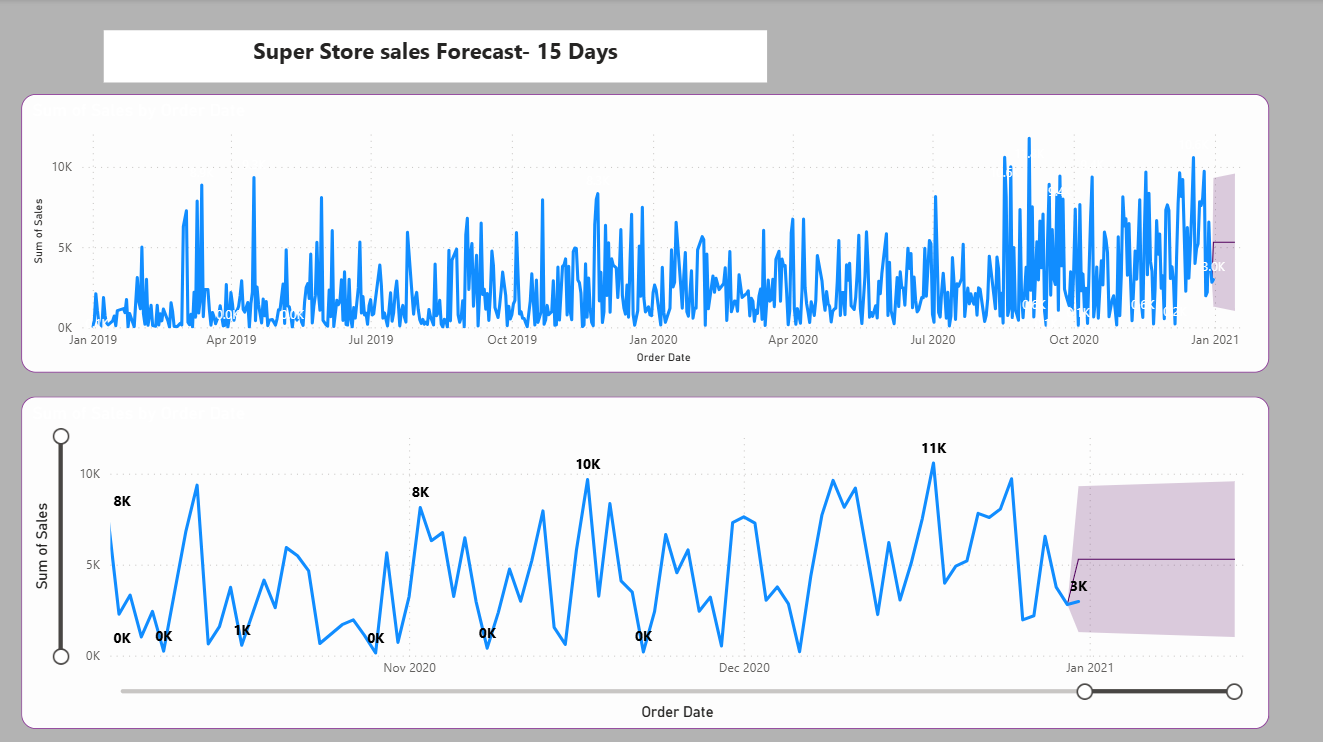

The page's visual inventory and layout, read from the dashboard file:
{"tool":"powerbi","page":{"name":"Page 2","canvas":[1280,720],"ordinal":1},"visuals":[{"type":"lineChart","fields":{"Y":["Sum(SuperStore_Sales.Sales)"],"Category":["SuperStore_Sales.Order Date"]},"box":[20.6,91.9,1203.8,268.7],"z":0},{"type":"textbox","box":[100.1,30.2,640.3,50.7],"z":2001},{"type":"lineChart","fields":{"Y":["Sum(SuperStore_Sales.Sales)"],"Category":["SuperStore_Sales.Order Date"]},"box":[20.6,383.9,1203.8,320.8],"z":2002}]}

Visuals, with their boxes in screenshot pixels (x1, y1, x2, y2), scaled from the page's 1280x720 canvas onto the 1323x742 screenshot:
lineChart - Sum(SuperStore_Sales.Sales) x SuperStore_Sales.Order Date: 21, 95, 1266, 372
textbox: 103, 31, 765, 83
lineChart - Sum(SuperStore_Sales.Sales) x SuperStore_Sales.Order Date: 21, 396, 1266, 726
